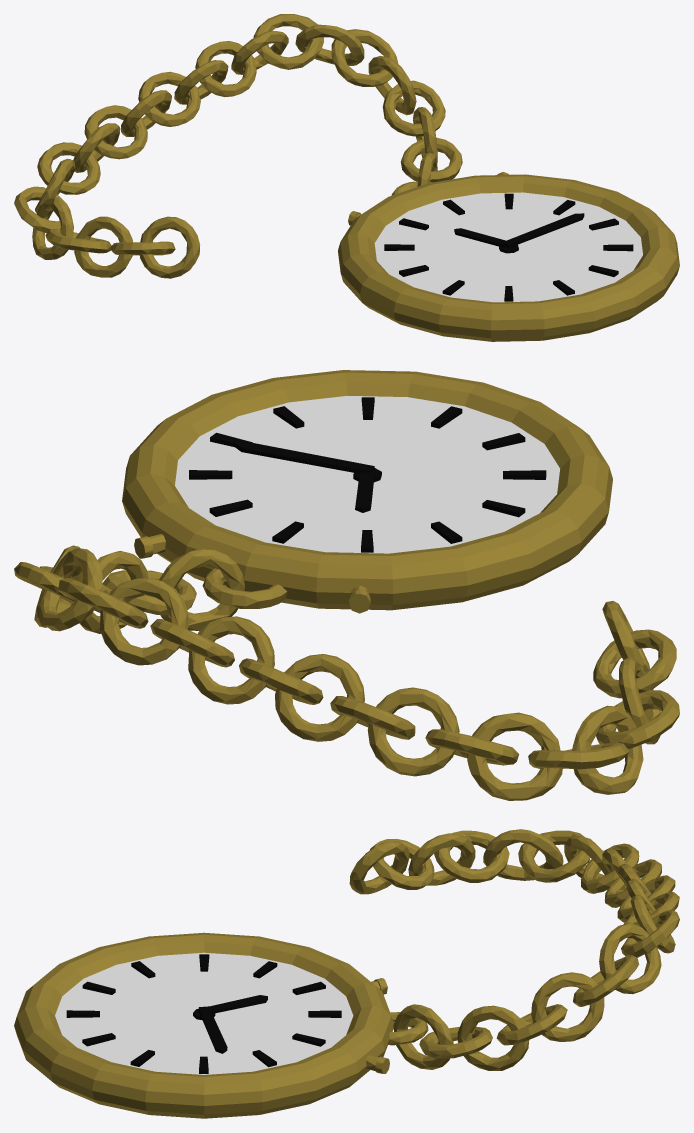
The model's file is Stopwatch.fbx.
The picture shows the model from 3 angles, top to bottom: view 1: azimuth 30°, elevation 25°; view 2: azimuth 150°, elevation 25°; view 3: azimuth 270°, elevation 25°; orthographic projection. The views are drawn at different scales.
Visible parts, largest first — view 1: Cylinder; view 2: Cylinder; view 3: Cylinder.
Part boxes in pixels (box(x1,y1,x2,y2)): Cylinder: box(14, 14, 679, 341); Cylinder: box(14, 370, 679, 800); Cylinder: box(14, 829, 679, 1118).
Bounding box in the file's own units: 338 × 81.92 × 364.
